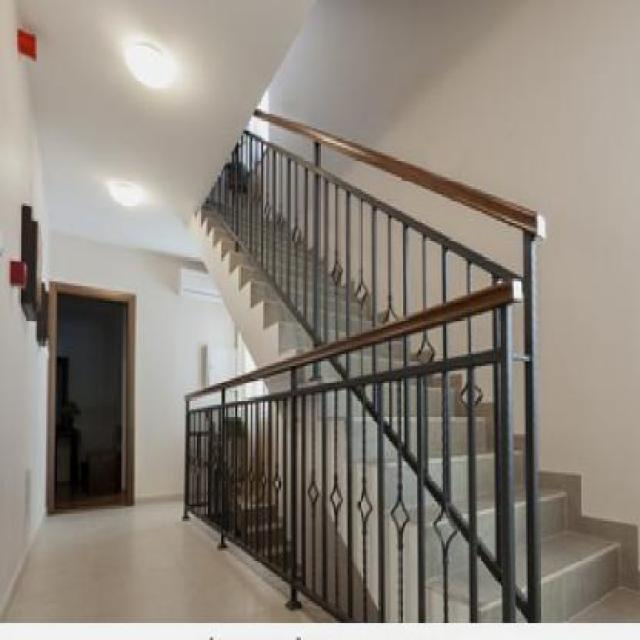stair: (183, 60, 639, 623)
